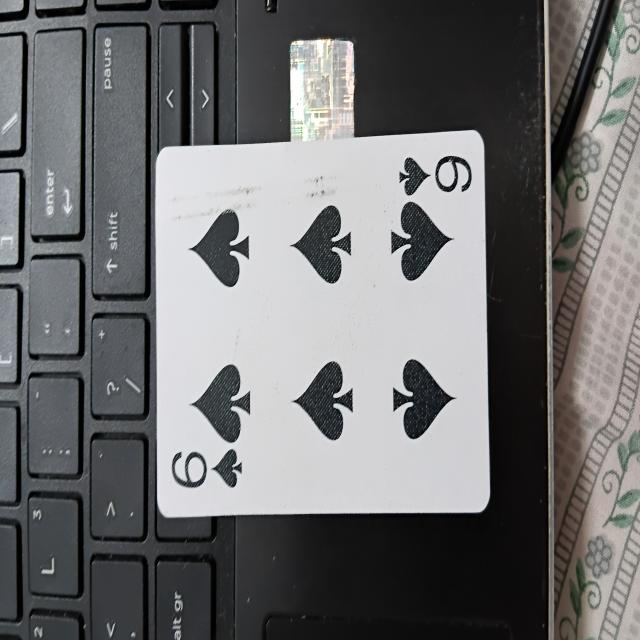6S: (161, 145, 485, 513)
